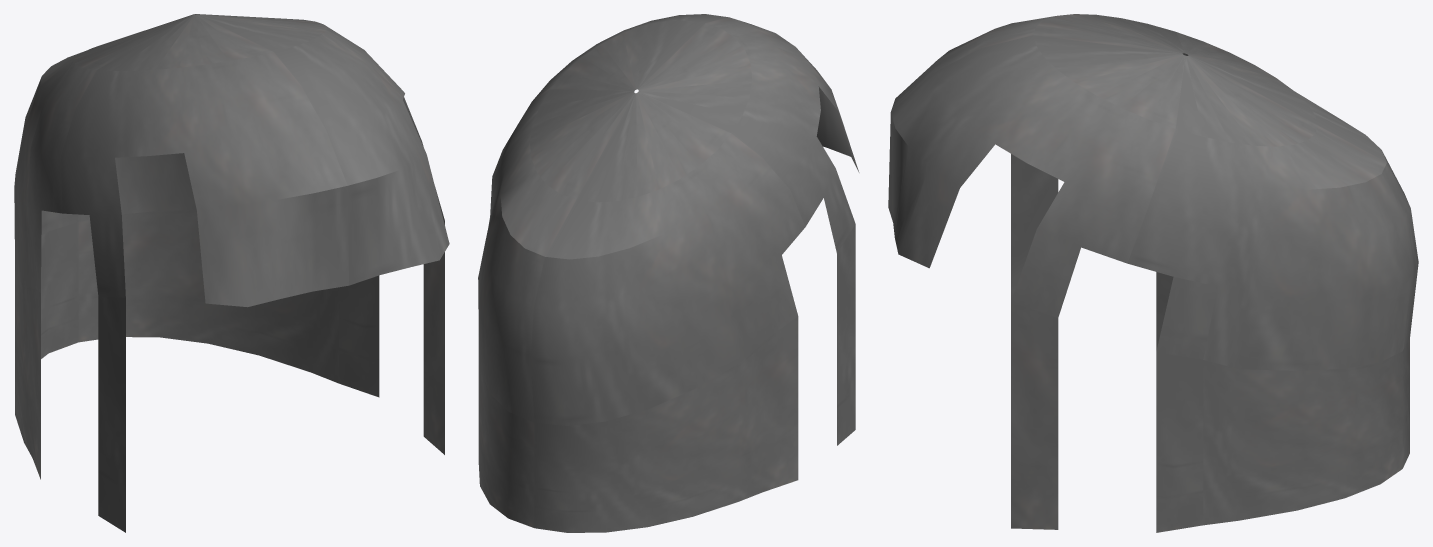
Rendered from hair_lib_02.dae.
3 views of the same model, side by side, from view 1: azimuth 30°, elevation 25°; view 2: azimuth 150°, elevation 25°; view 3: azimuth 270°, elevation 25° (orthographic). The views are drawn at different scales.
Parts seen in each view (by area): view 1: a-hair_lib_02; view 2: a-hair_lib_02; view 3: a-hair_lib_02.
Boxes of the visible parts, box(x1,y1,x2,y2) form: a-hair_lib_02: box(14, 14, 449, 532); a-hair_lib_02: box(478, 14, 859, 532); a-hair_lib_02: box(888, 14, 1418, 532).
Bounding box in the file's own units: 0.4736 × 0.666 × 0.5795.
